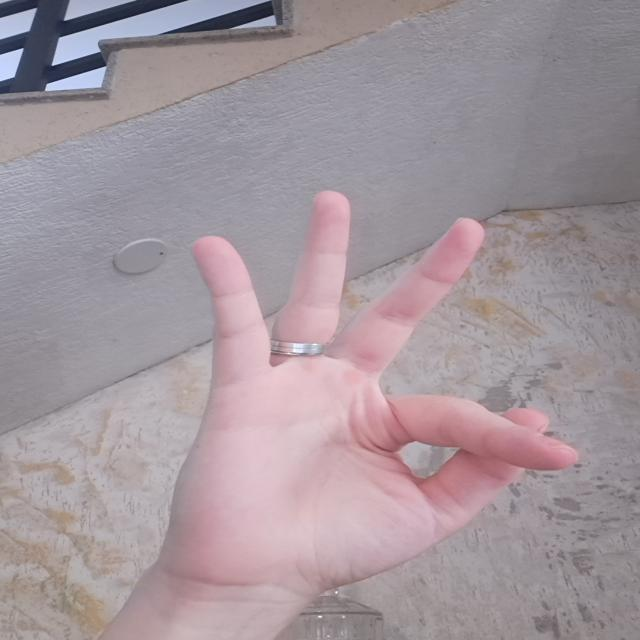F: (160, 188, 598, 584)
